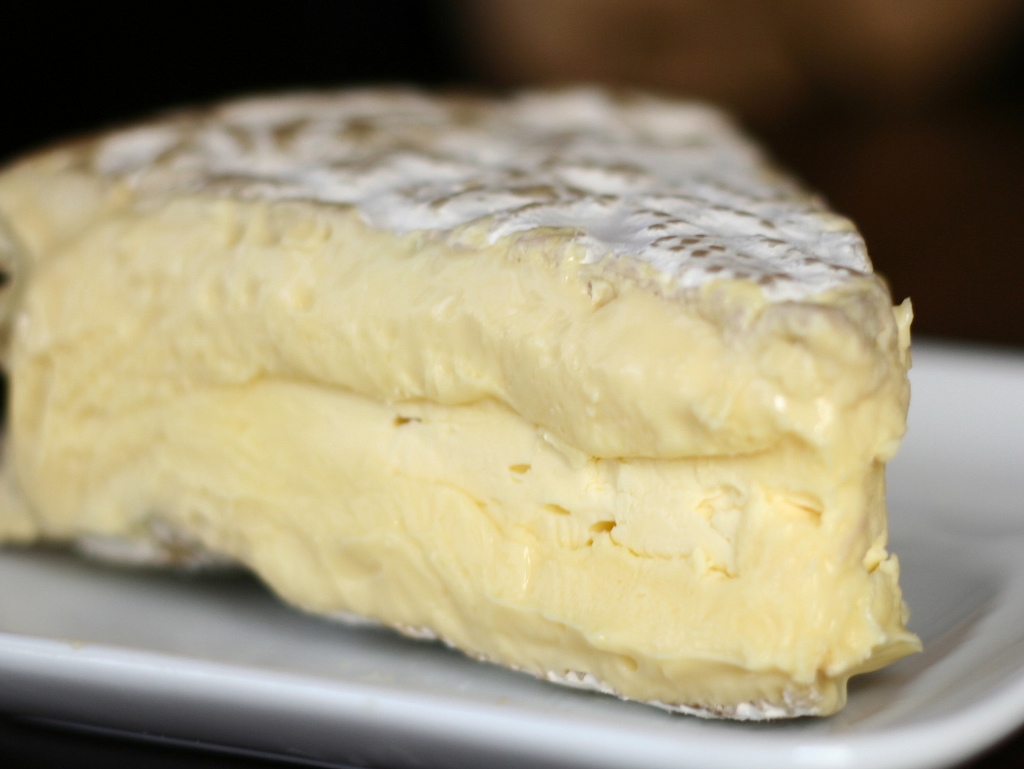camembert: (5, 78, 944, 732)
